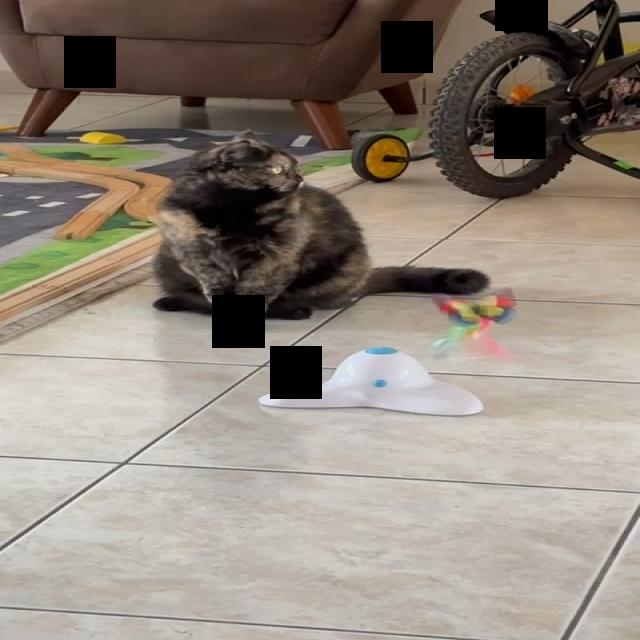authorized: (150, 128, 490, 330)
